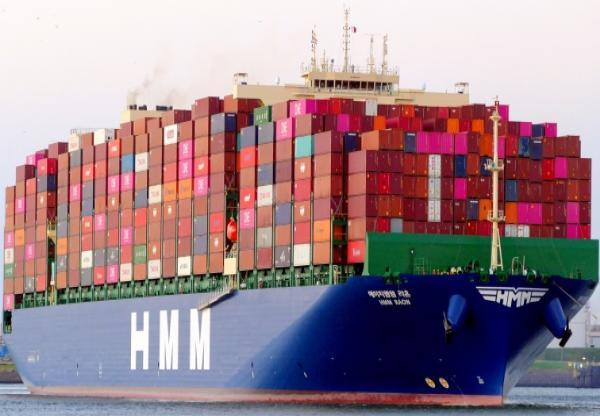Container Ship: (1, 6, 599, 407)
